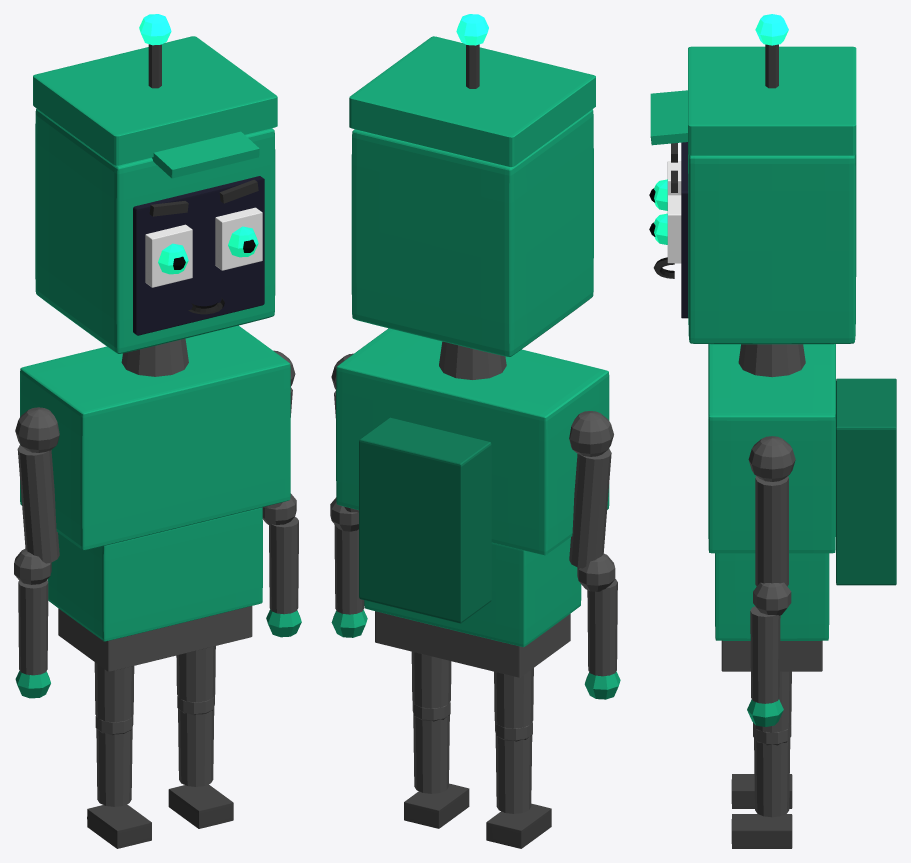
The model's file is scout.glb.
The picture shows the model from 3 angles, left to right: view 1: azimuth 30°, elevation 25°; view 2: azimuth 150°, elevation 25°; view 3: azimuth 270°, elevation 25°; orthographic projection.
Parts seen in each view (by area): view 1: scout_chest, scout_head, scout_cap_crown, scout_waist, scout_face_plate, scout_hips, scout_l_upper_arm, scout_cap_brim, scout_l_forearm, scout_r_forearm, scout_r_calf, scout_l_calf (+16 smaller); view 2: scout_head, scout_chest, scout_backpack, scout_cap_crown, scout_waist, scout_hips, scout_l_upper_arm, scout_l_calf, scout_r_calf, scout_l_forearm, scout_r_forearm, scout_l_thigh (+11 smaller); view 3: scout_head, scout_chest, scout_cap_crown, scout_backpack, scout_waist, scout_r_upper_arm, scout_r_forearm, scout_r_calf, scout_hips, scout_r_foot, scout_neck, scout_cap_brim (+10 smaller).
Part boxes in pixels (box(x1,y1,x2,y2)): scout_chest: box(20, 325, 290, 550); scout_head: box(35, 108, 275, 353); scout_cap_crown: box(33, 36, 277, 165); scout_waist: box(47, 507, 262, 641); scout_face_plate: box(133, 176, 264, 335); scout_hips: box(58, 606, 252, 671); scout_l_upper_arm: box(17, 445, 59, 563); scout_cap_brim: box(152, 131, 259, 178); scout_l_forearm: box(18, 580, 48, 675); scout_r_forearm: box(269, 517, 298, 614); scout_r_calf: box(178, 707, 214, 786); scout_l_calf: box(96, 728, 132, 806); scout_head: box(351, 109, 593, 356); scout_chest: box(336, 328, 609, 555); scout_backpack: box(359, 417, 491, 623); scout_cap_crown: box(349, 36, 595, 166); scout_waist: box(364, 537, 581, 647); scout_hips: box(375, 611, 570, 677); scout_l_upper_arm: box(569, 449, 611, 568); scout_l_calf: box(495, 734, 532, 813); scout_r_calf: box(413, 714, 449, 793); scout_l_forearm: box(587, 579, 617, 676); scout_r_forearm: box(334, 524, 364, 614); scout_l_thigh: box(494, 668, 533, 728); scout_head: box(688, 154, 856, 344); scout_chest: box(708, 344, 835, 553); scout_cap_crown: box(688, 46, 856, 155); scout_backpack: box(836, 378, 896, 585); scout_waist: box(715, 553, 829, 640); scout_r_upper_arm: box(755, 476, 788, 586); scout_r_forearm: box(750, 606, 780, 703); scout_r_calf: box(754, 738, 790, 817); scout_hips: box(721, 640, 822, 671); scout_r_foot: box(731, 814, 792, 848); scout_neck: box(738, 344, 805, 377); scout_cap_brim: box(650, 90, 687, 145).
Bounding box in the file's own units: 0.97 × 2.64 × 0.735.
